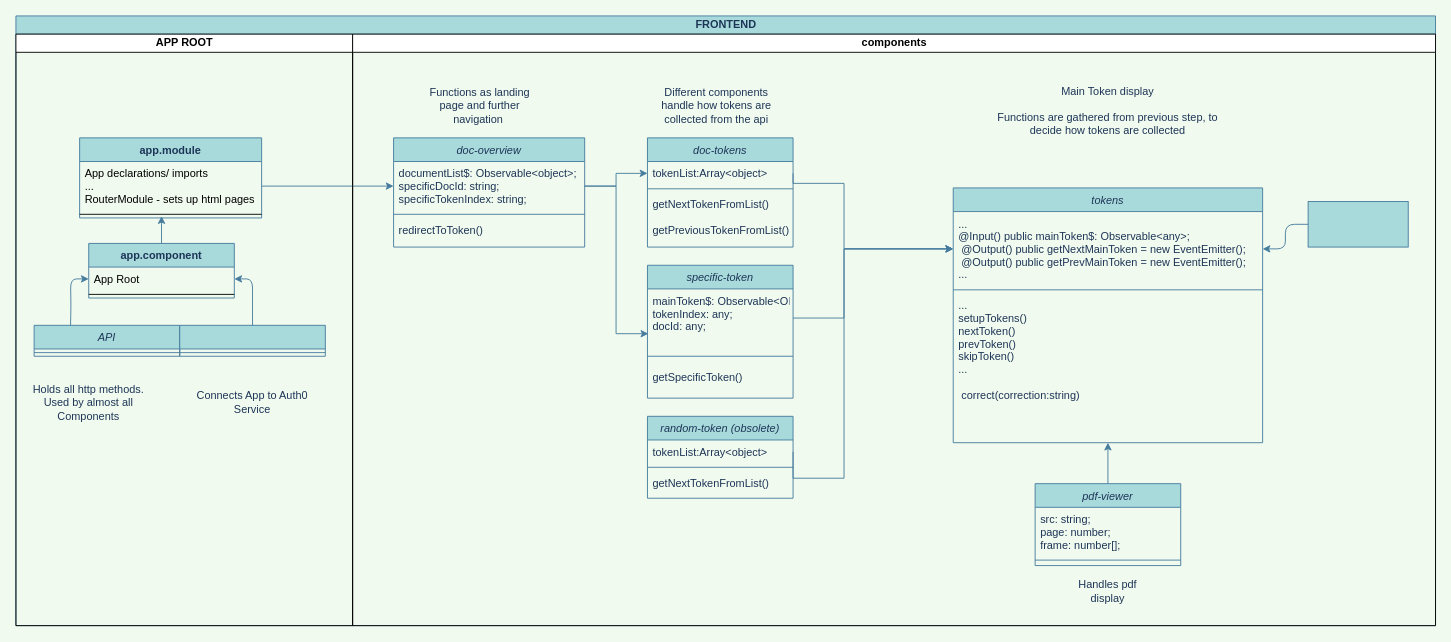
This 1451x642 diagram has some shape labels left out. The shapes that lost their labels are listed below. From the top down, each one's centre as x and y in pixels, then its label:
At point (1357, 224): "i-token".
At point (252, 340): "Auth".
